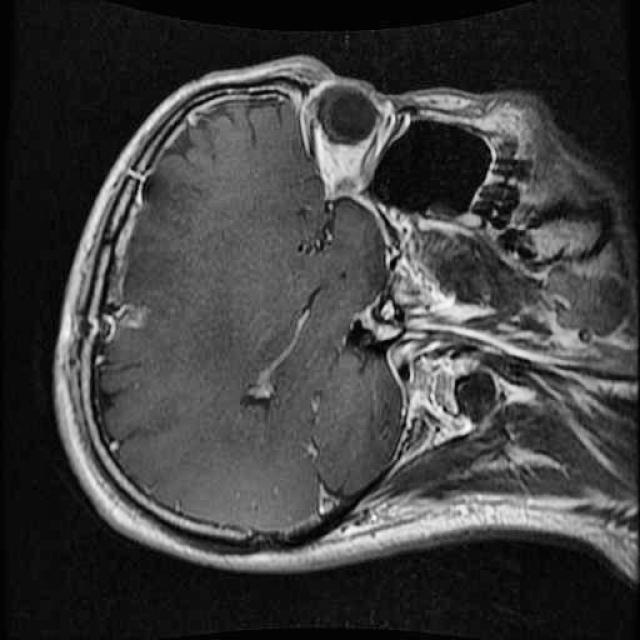Non-Tumor: (98, 294, 165, 348)
